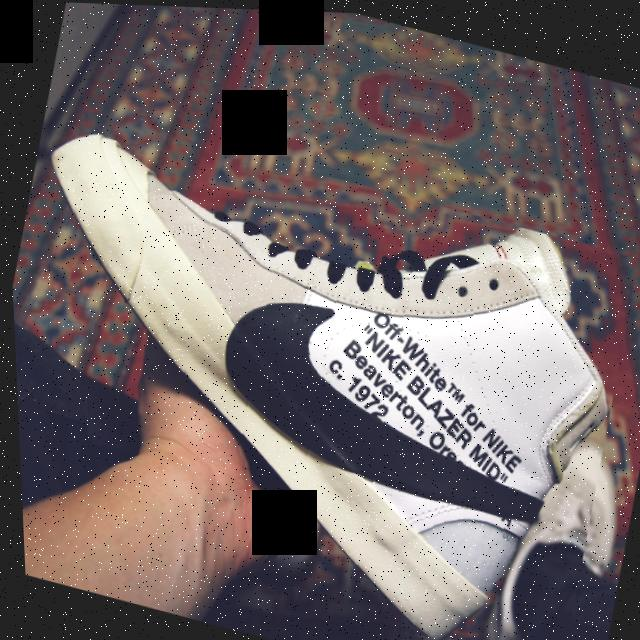shoe: (4, 102, 640, 640)
